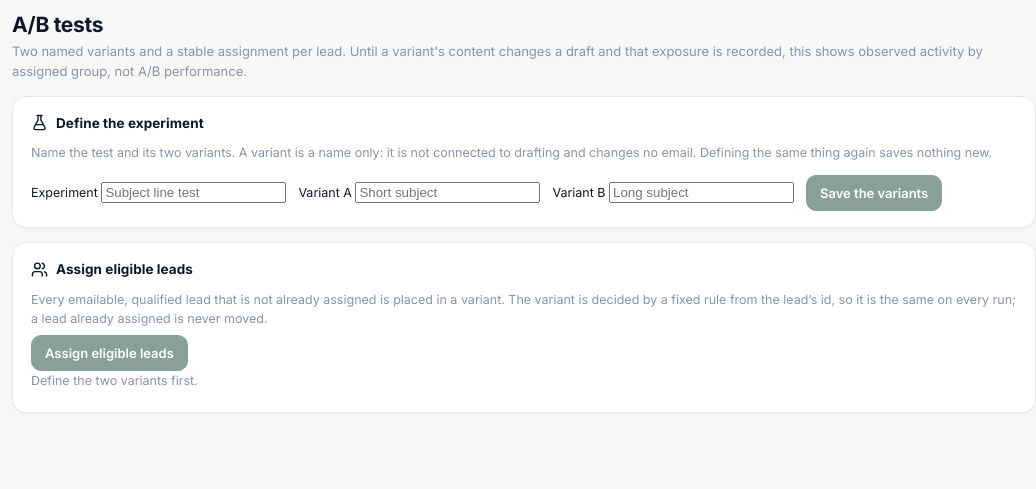
Scenario: the A/B tests page › shows the server's message when a define is refused
The width and height of the screenshot is (1036, 489).
Type "E" into the field labelled "Experiment" at (194, 193), box [101,182,286,203]
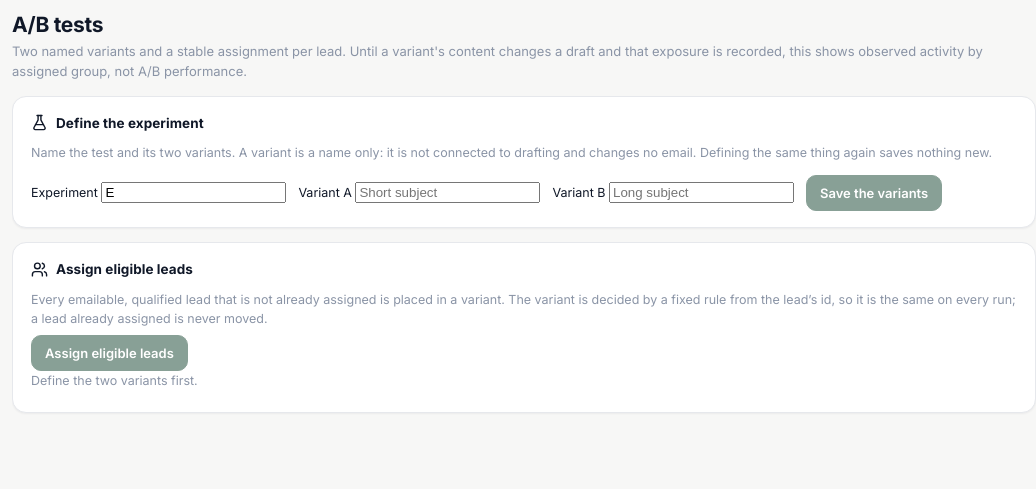
Type "A" into the field labelled "Variant A" at (448, 193), box [355,182,540,203]
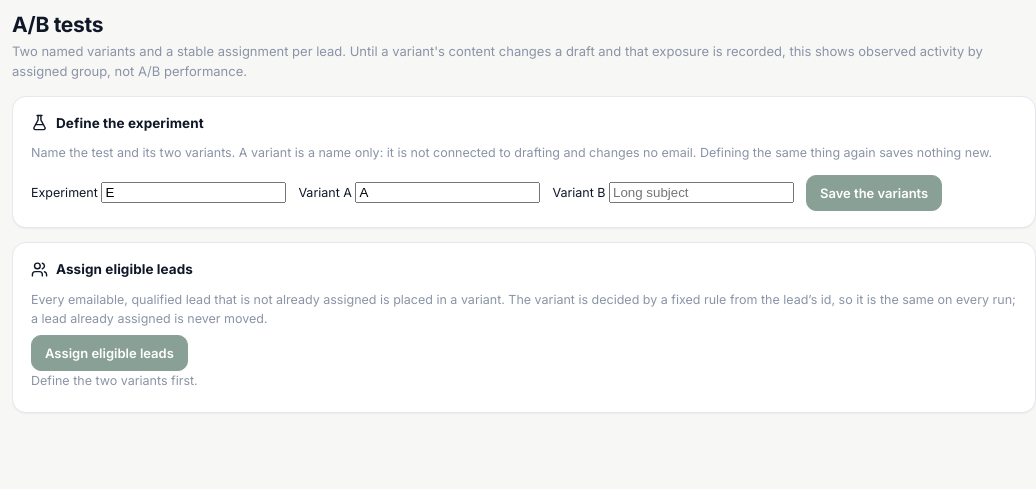
Type "B" into the field labelled "Variant B" at (702, 193), box [609,182,794,203]
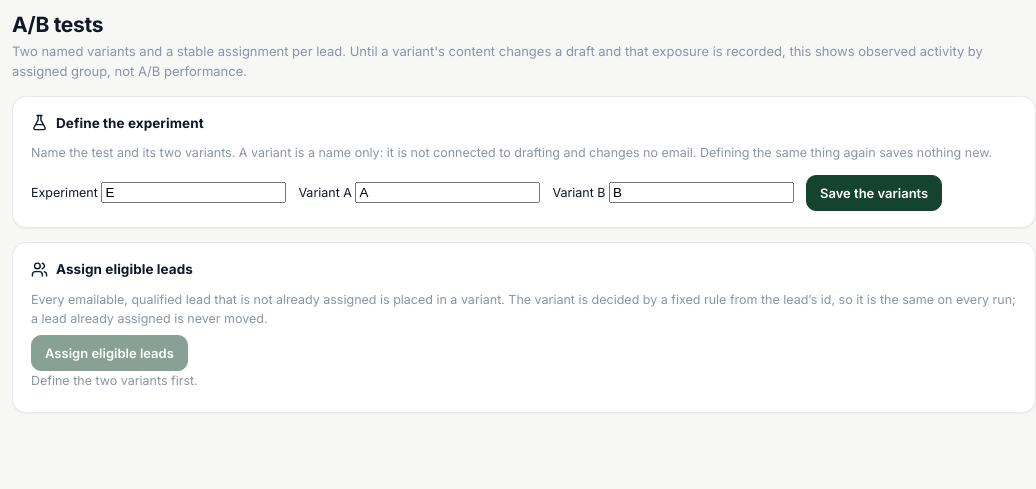
Click the button "Save the variants" at (874, 193), box [806,175,942,211]
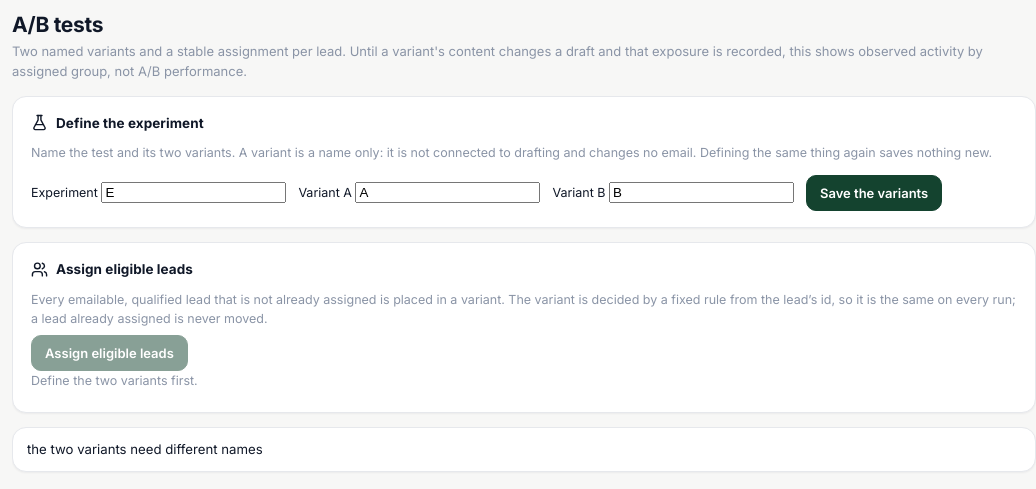
Check: the text "the two variants need different names" is shown, box [27,441,263,457]
